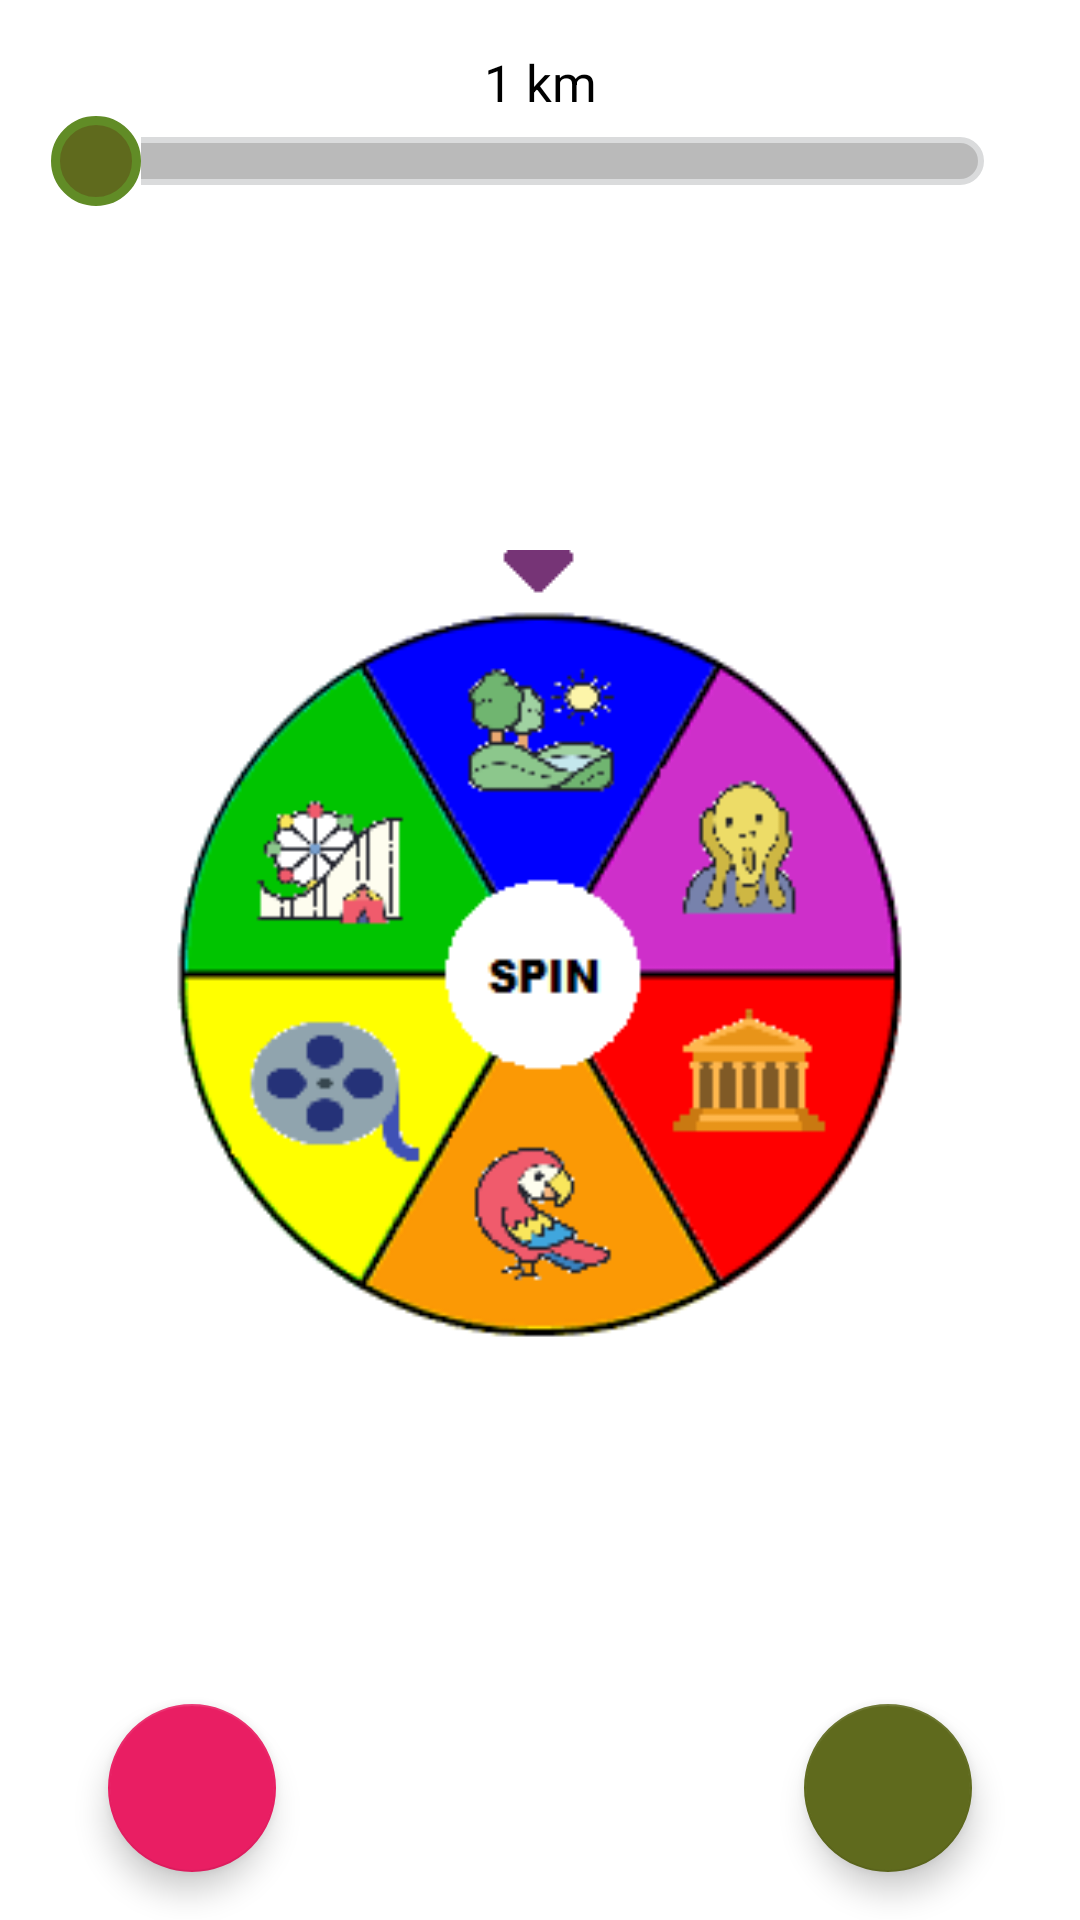

Named icons in this screenshot (1080 x 1920) and their bounding boxes, bbox=(x1, y1, x2, y2):
spinning wheel indicator: bbox=(503, 550, 574, 593)
